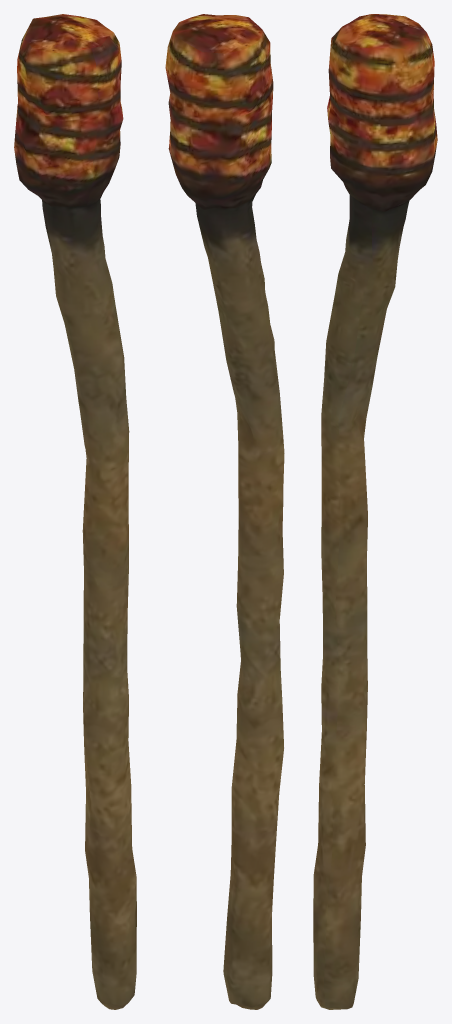
The model's file is item-torch.glb.
3 renders of one model, left to right at view 1: azimuth 90°, elevation 25°; view 2: azimuth 150°, elevation 25°; view 3: azimuth 270°, elevation 25°, orthographic. The views are drawn at different scales.
Parts seen in each view (by area): view 1: torchstick; view 2: torchstick; view 3: torchstick.
Part boxes in pixels (bbox=[...]): torchstick: bbox=[14, 14, 136, 1009]; torchstick: bbox=[165, 14, 284, 1009]; torchstick: bbox=[313, 14, 437, 1009].
Size of the model in its own units: 0.139 by 1.45 by 0.1663.
1 material, 1 textured.
